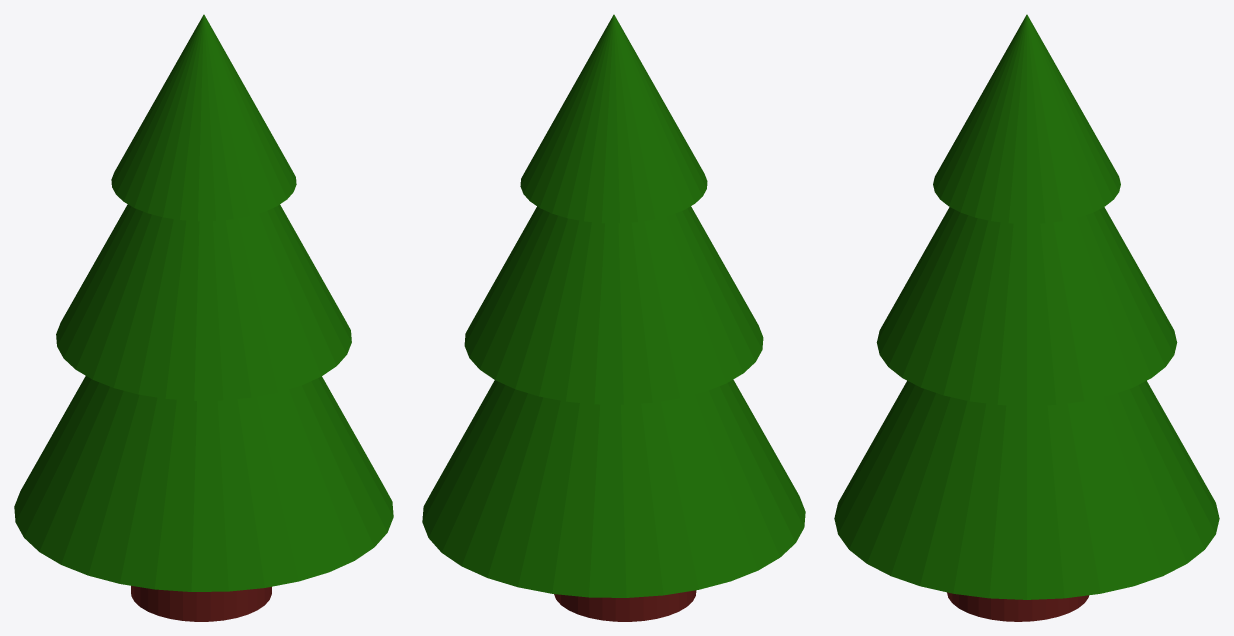
Rendered from tree.fbx.
3 renders of one model, left to right at view 1: azimuth 30°, elevation 25°; view 2: azimuth 150°, elevation 25°; view 3: azimuth 270°, elevation 25°, orthographic.
Parts seen in each view (by area): view 1: Cone, Cone.001, Cone.002, Cylinder; view 2: Cone, Cone.001, Cone.002, Cylinder; view 3: Cone, Cone.001, Cone.002, Cylinder.
Boxes of the visible parts, <box> form: Cone: <box>14,376,393,591</box>; Cone.001: <box>56,204,351,400</box>; Cone.002: <box>111,14,296,221</box>; Cylinder: <box>131,586,271,621</box>; Cone: <box>422,379,805,597</box>; Cone.001: <box>464,206,763,404</box>; Cone.002: <box>520,14,707,223</box>; Cylinder: <box>554,590,696,621</box>; Cone: <box>834,380,1219,599</box>; Cone.001: <box>876,207,1177,405</box>; Cone.002: <box>933,14,1120,223</box>; Cylinder: <box>947,592,1088,621</box>.
Bounding box in the file's own units: 381 × 634 × 381.
